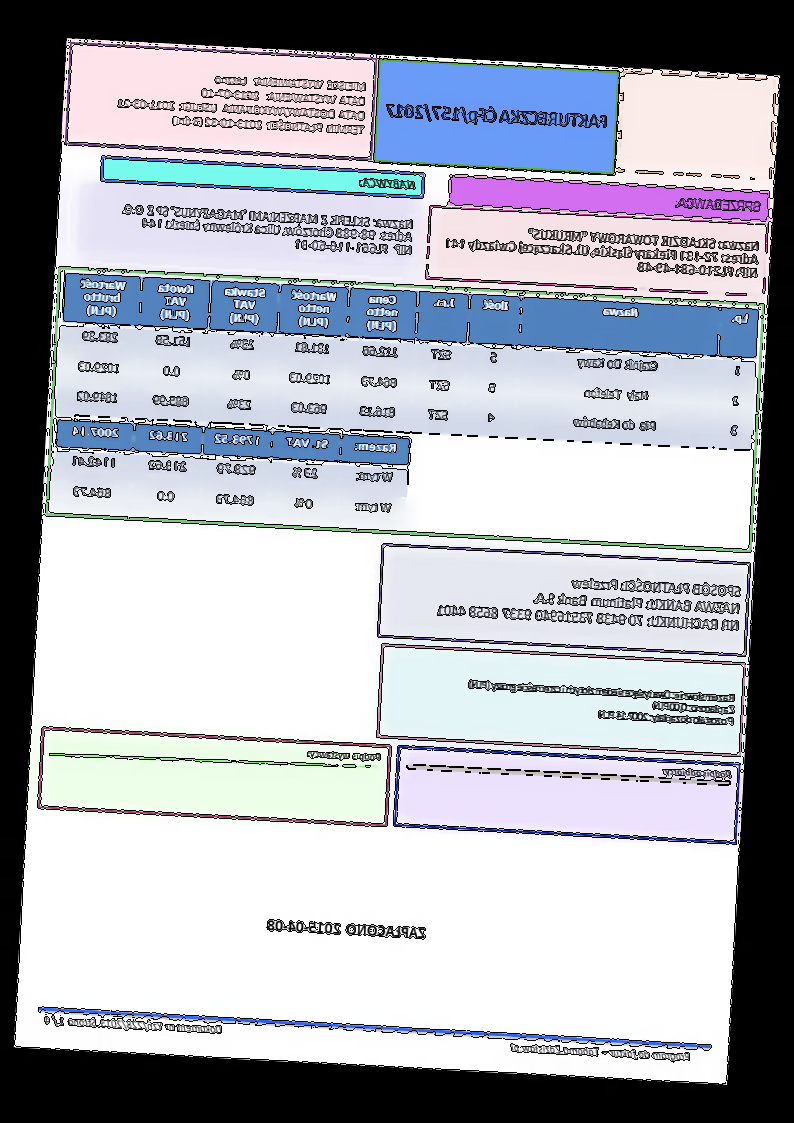Table: (59, 270, 762, 449), (50, 416, 414, 528)
TextBox: (433, 564, 747, 636), (443, 218, 763, 284), (112, 65, 373, 141), (117, 198, 418, 260), (462, 675, 738, 729), (383, 94, 616, 135), (508, 1035, 697, 1069), (263, 912, 434, 944), (38, 1012, 225, 1039), (673, 193, 767, 214), (659, 761, 735, 785), (305, 745, 389, 766), (359, 173, 419, 194)
